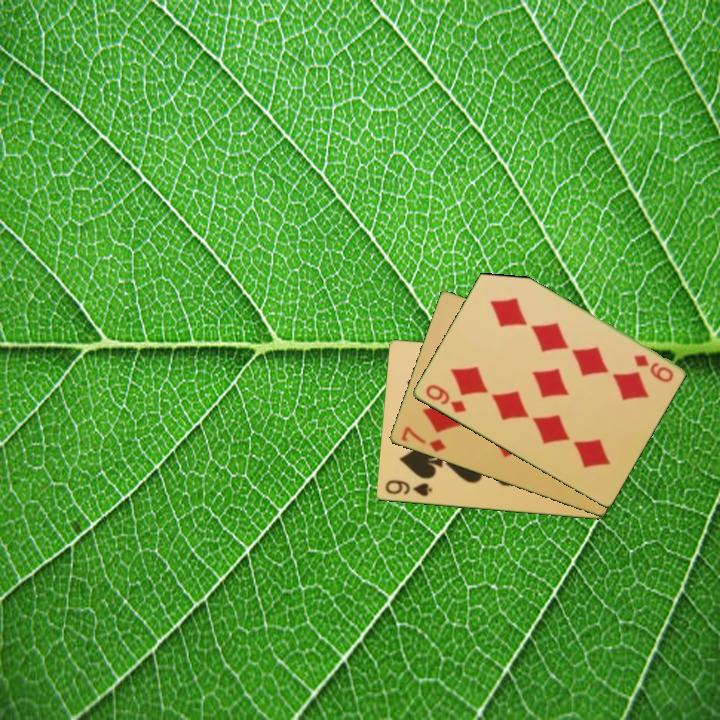7d: (397, 423, 448, 455)
9d: (422, 381, 469, 416), (630, 351, 676, 386)
9s: (381, 476, 434, 500)
